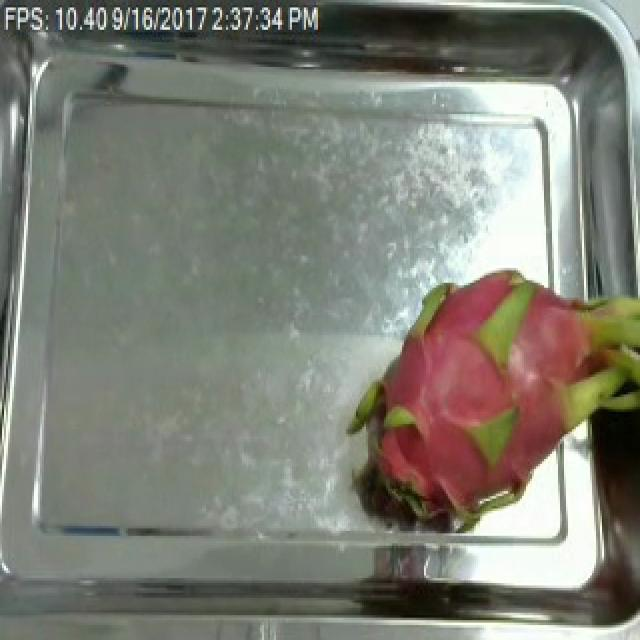fruit: (332, 245, 640, 546)
